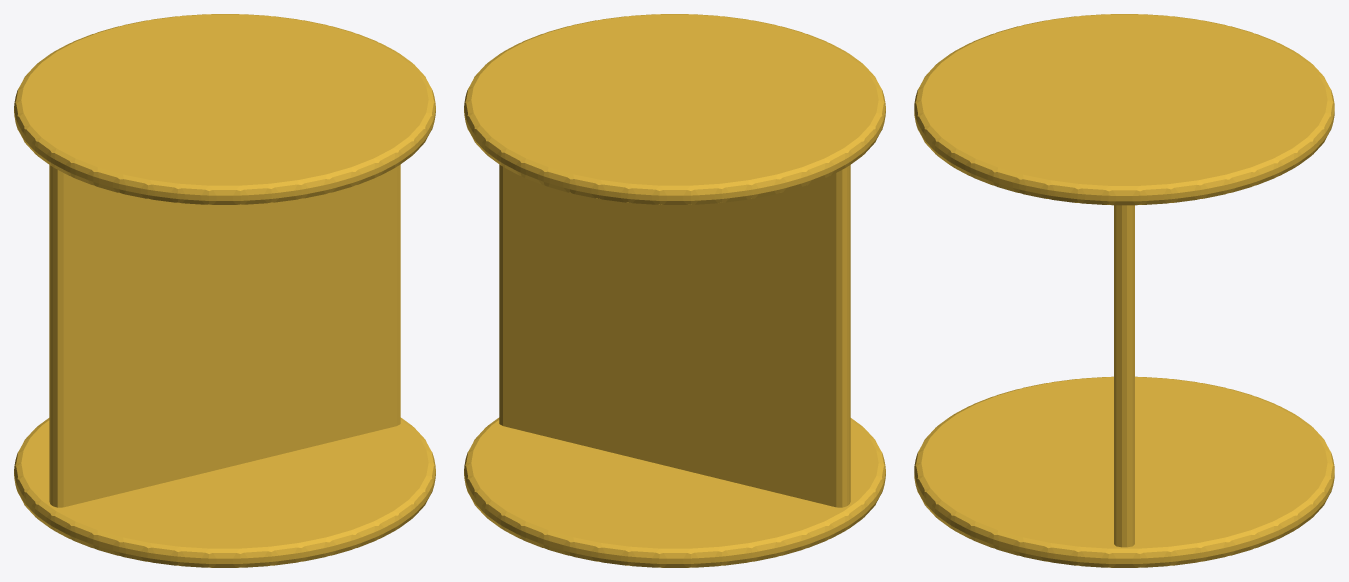
Rendered from valve.glb.
3 renders of one model, left to right at view 1: azimuth 30°, elevation 25°; view 2: azimuth 150°, elevation 25°; view 3: azimuth 270°, elevation 25°, orthographic.
Parts seen in each view (by area): view 1: Cube.017; view 2: Cube.017; view 3: Cube.017.
Part boxes in pixels (left/top/right/bottom): Cube.017: left=14, top=14, right=435, bottom=567; Cube.017: left=464, top=14, right=885, bottom=567; Cube.017: left=914, top=14, right=1334, bottom=567.
Size of the model in its own units: 2 by 2 by 2.
